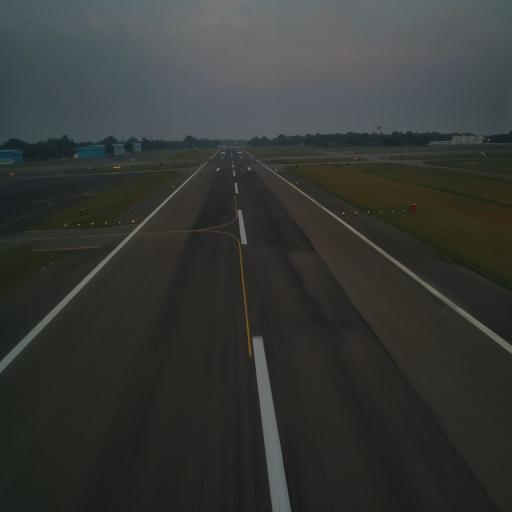on: (342, 210, 346, 218), (354, 210, 358, 218), (378, 208, 382, 215), (391, 208, 395, 214), (91, 221, 95, 226), (64, 223, 68, 227), (77, 223, 81, 227), (117, 220, 121, 224), (367, 210, 370, 215), (132, 219, 135, 224), (404, 209, 406, 213), (105, 221, 107, 225)
